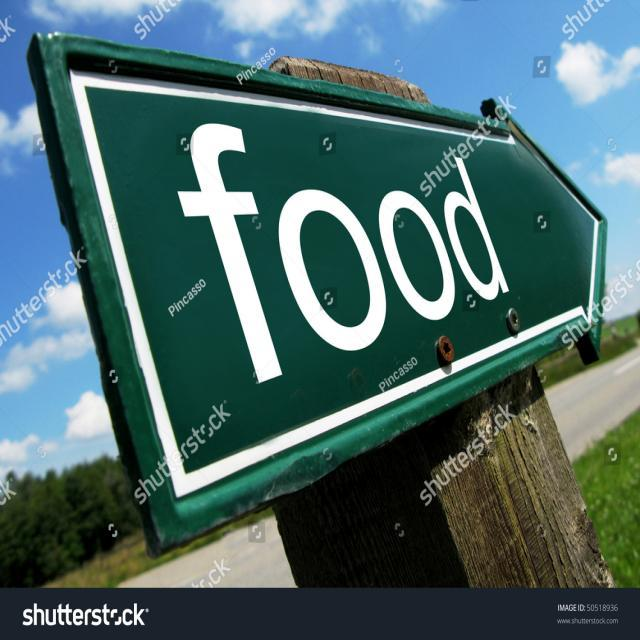Traffic sign: (24, 24, 612, 560)
